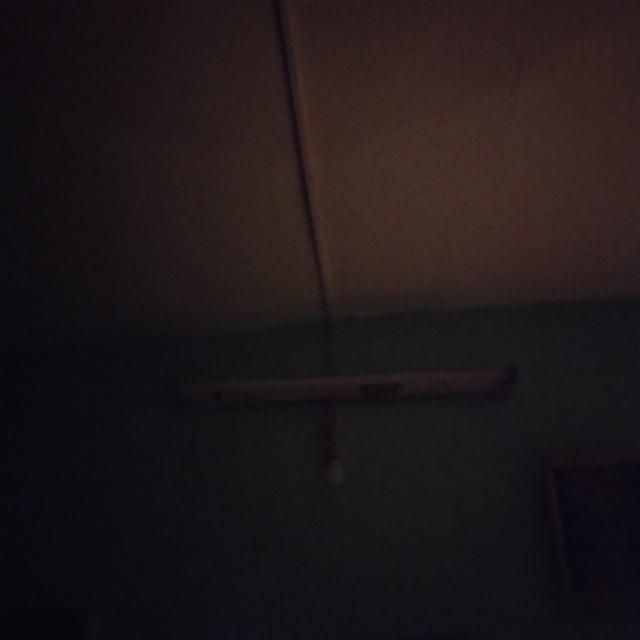tubelight_off: (167, 363, 520, 408)
